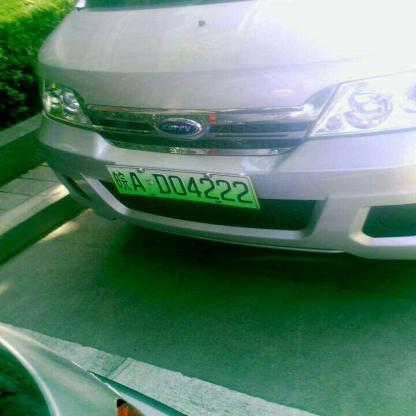lp: (104, 167, 258, 208)
